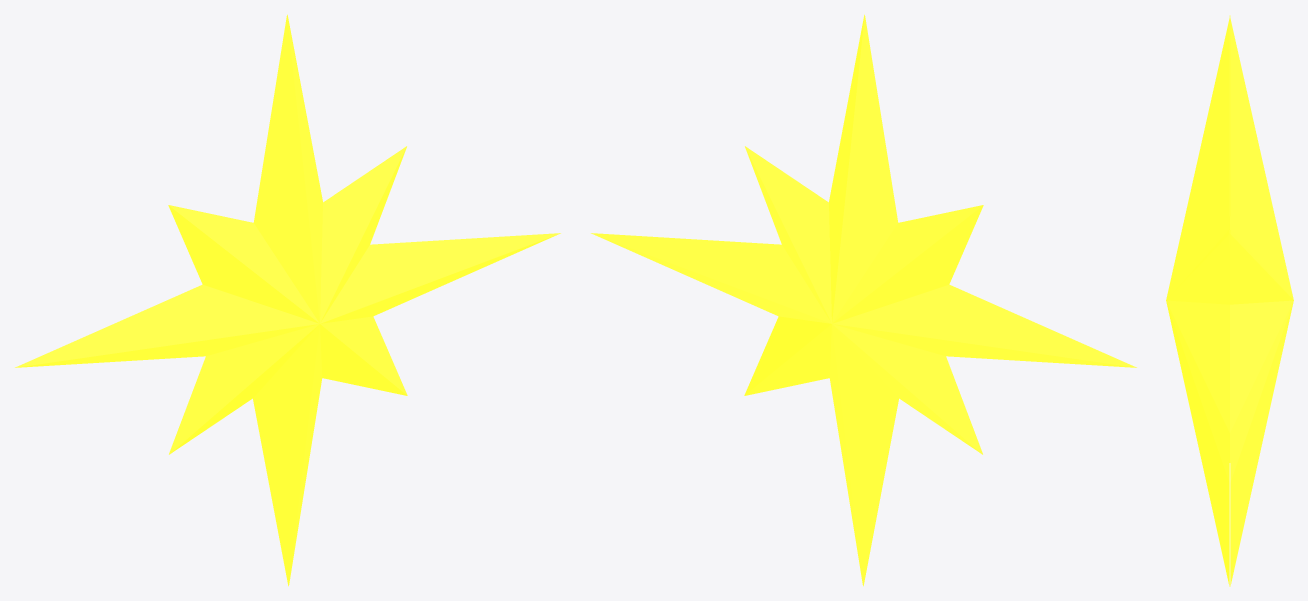
File: Star3.fbx
The picture shows the model from 3 angles, left to right: view 1: azimuth 30°, elevation 25°; view 2: azimuth 150°, elevation 25°; view 3: azimuth 270°, elevation 25°; orthographic projection.
Parts seen in each view (by area): view 1: Star3; view 2: Star3; view 3: Star3.
Part boxes in pixels (<box>): Star3: <box>15,14,560,586</box>; Star3: <box>591,14,1136,586</box>; Star3: <box>1166,15,1293,586</box>.
Bounding box in the file's own units: 491 × 491 × 99.33.
